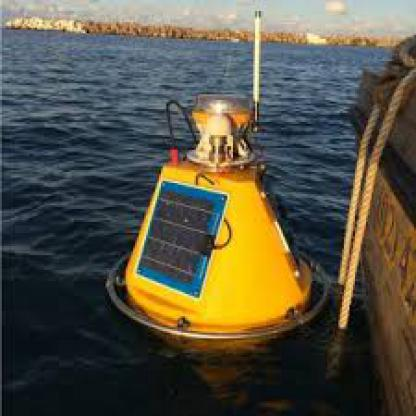buoy: (92, 78, 336, 355)
